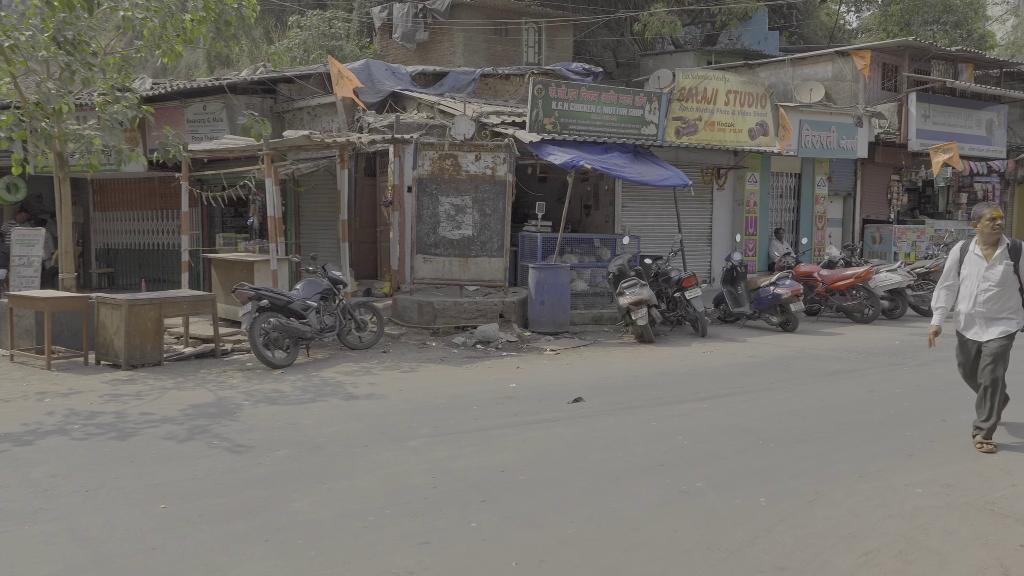dustbin: (526, 259, 576, 335)
